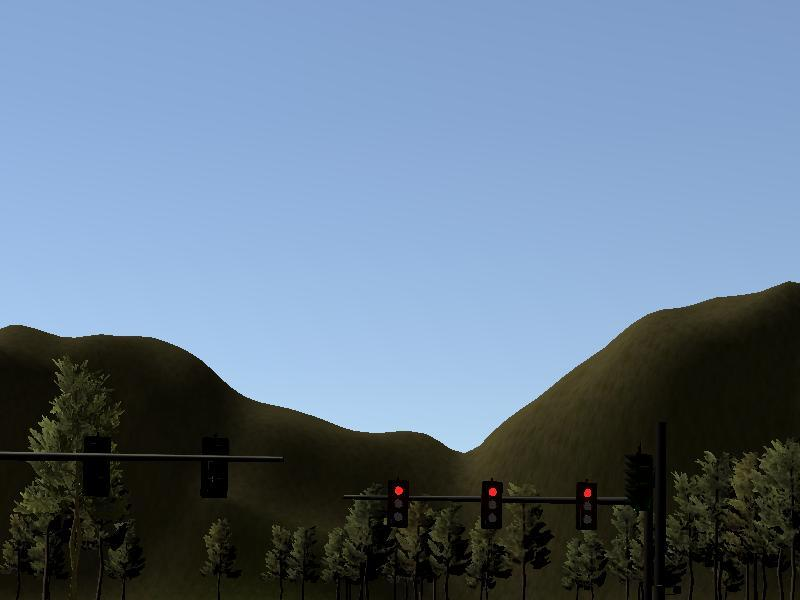Red: (576, 481, 597, 530), (481, 480, 502, 529), (387, 480, 408, 529)
